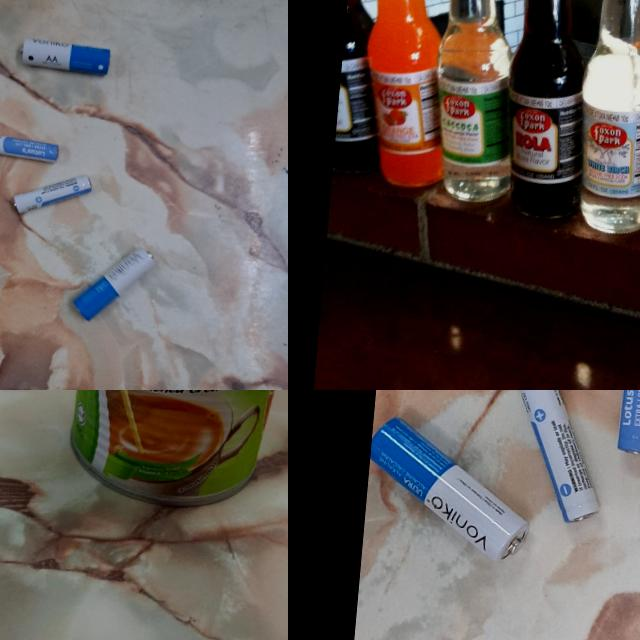bateria: (362, 414, 539, 564), (503, 390, 613, 526), (70, 239, 158, 329), (10, 166, 94, 222), (17, 34, 112, 78), (0, 129, 61, 165)
garrafa de vidro: (493, 0, 602, 222), (424, 0, 533, 207), (350, 0, 464, 190), (565, 0, 640, 236), (332, 0, 395, 164)
lata: (65, 390, 288, 518)
